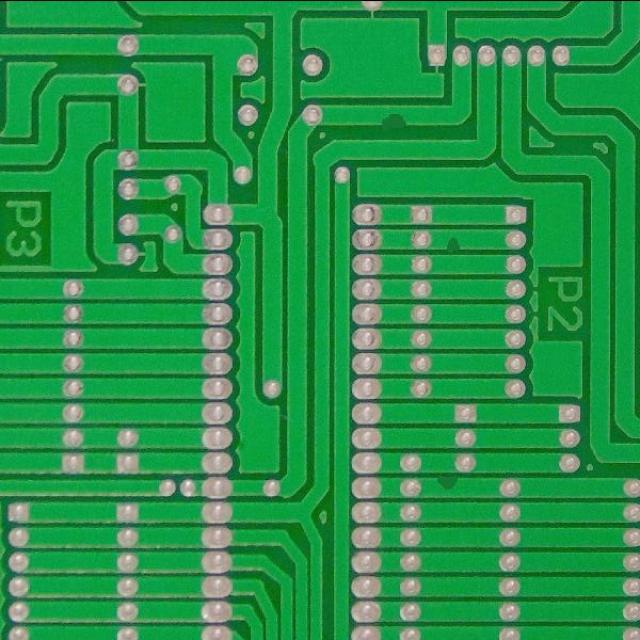mouse_bite: (373, 106, 415, 133), (434, 470, 461, 494), (440, 236, 466, 257)
